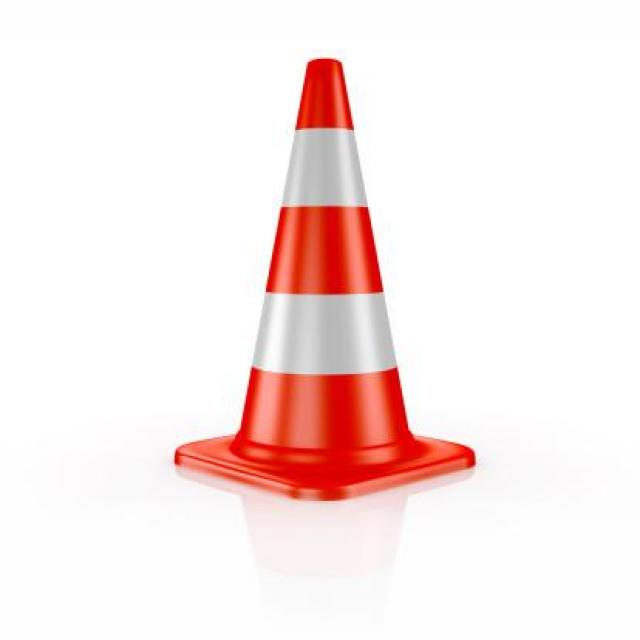Cone: (183, 60, 472, 492)
